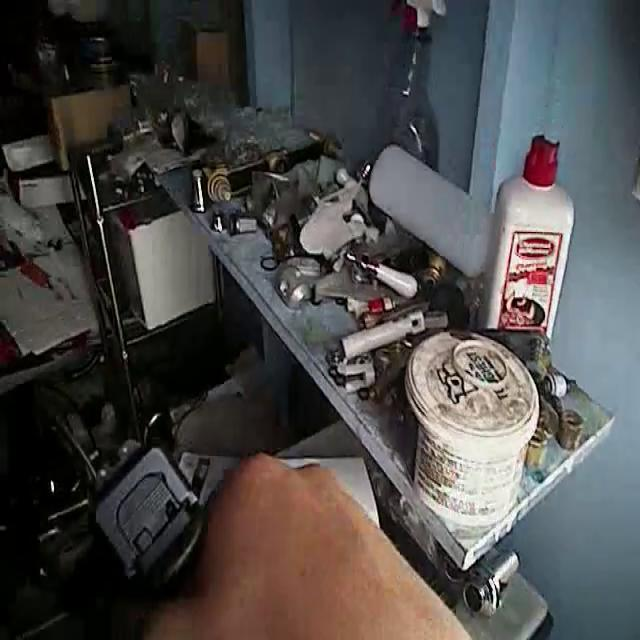gun: (70, 421, 240, 616)
